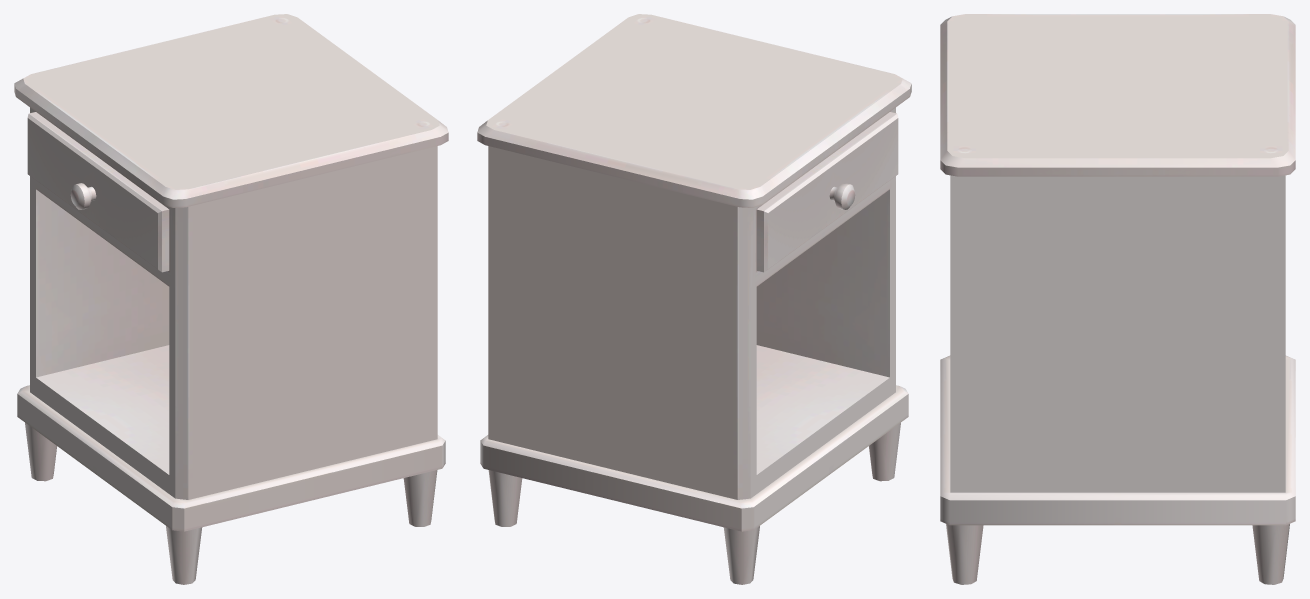
The model's file is Bedroom Bedtumb.fbx.
The picture shows the model from 3 angles, left to right: view 1: azimuth 30°, elevation 25°; view 2: azimuth 150°, elevation 25°; view 3: azimuth 270°, elevation 25°; orthographic projection. The views are drawn at different scales.
Parts seen in each view (by area): view 1: Bedroom Bedtumb, Bedroom Bedtumb Inbox; view 2: Bedroom Bedtumb, Bedroom Bedtumb Inbox; view 3: Bedroom Bedtumb.
Boxes of the visible parts, <box> form: Bedroom Bedtumb: <box>14,14,448,584</box>; Bedroom Bedtumb Inbox: <box>27,112,169,272</box>; Bedroom Bedtumb: <box>477,14,911,584</box>; Bedroom Bedtumb Inbox: <box>756,112,898,272</box>; Bedroom Bedtumb: <box>940,14,1295,584</box>.
Size of the model in its own units: 0.5298 by 0.6739 by 0.5037.
Materials: 2 (2 with a texture image).
